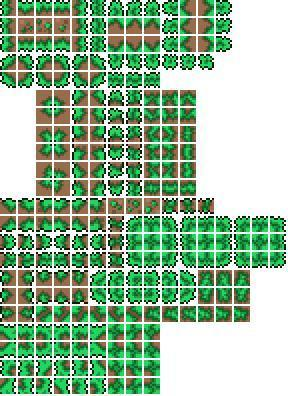dirt: (54, 106, 72, 126), (142, 124, 162, 142), (35, 142, 53, 162), (70, 16, 88, 35), (54, 16, 72, 35), (35, 160, 54, 178), (89, 106, 106, 126), (107, 17, 125, 35), (89, 18, 107, 36), (18, 16, 36, 34), (197, 35, 215, 53), (144, 36, 162, 54), (125, 34, 143, 52), (71, 34, 89, 52), (198, 54, 216, 72), (34, 124, 52, 142), (144, 160, 162, 178), (162, 160, 180, 178), (143, 18, 162, 35), (36, 17, 53, 36), (0, 17, 17, 36), (89, 53, 108, 70), (35, 89, 54, 106), (90, 125, 107, 144), (178, 36, 198, 52), (17, 0, 35, 17), (89, 0, 107, 17), (216, 18, 234, 35), (72, 54, 90, 71), (125, 53, 143, 70), (107, 71, 125, 88), (36, 71, 53, 89), (89, 89, 107, 106), (144, 89, 162, 106), (36, 107, 53, 125), (179, 107, 197, 124), (72, 125, 89, 143), (89, 179, 107, 196), (124, 179, 142, 196), (53, 196, 70, 214), (90, 198, 108, 215), (107, 198, 125, 215), (144, 196, 161, 214), (17, 54, 36, 70), (52, 144, 71, 160), (126, 161, 142, 180), (0, 0, 17, 17), (36, 0, 53, 17), (72, 0, 89, 17), (108, 0, 125, 17), (162, 35, 179, 52), (90, 71, 107, 88), (54, 71, 71, 88), (18, 71, 35, 88), (180, 90, 197, 107), (72, 108, 89, 125), (126, 108, 143, 125), (144, 108, 161, 125), (35, 179, 52, 196), (108, 179, 125, 196), (180, 179, 197, 196), (36, 198, 53, 215), (36, 216, 53, 233), (0, 288, 17, 305), (36, 288, 53, 305), (197, 0, 215, 16), (216, 0, 234, 16), (198, 18, 216, 34), (216, 36, 234, 52), (107, 36, 125, 52), (90, 35, 106, 53), (54, 36, 72, 52), (35, 36, 53, 52), (17, 36, 35, 52), (34, 54, 52, 70), (54, 54, 72, 70), (107, 54, 125, 70), (180, 53, 196, 71), (143, 72, 161, 88), (54, 90, 72, 106), (107, 90, 125, 106), (108, 108, 126, 124), (108, 124, 124, 142), (126, 126, 144, 142), (180, 144, 198, 160), (108, 160, 124, 178), (72, 180, 88, 198), (18, 233, 34, 251), (36, 234, 54, 250), (54, 233, 70, 251), (89, 252, 107, 268), (54, 269, 70, 287), (126, 0, 142, 17), (162, 0, 179, 16), (180, 0, 196, 17), (126, 18, 143, 34), (0, 36, 17, 52), (0, 53, 16, 70), (144, 54, 161, 70), (126, 72, 143, 88), (72, 71, 88, 88), (0, 72, 17, 88), (162, 90, 179, 106), (162, 108, 179, 124), (54, 126, 70, 143), (180, 126, 197, 142), (126, 144, 143, 160), (53, 162, 70, 178), (180, 161, 196, 178), (144, 179, 160, 196), (162, 179, 178, 196), (0, 198, 16, 215), (18, 198, 34, 215), (72, 198, 88, 215), (126, 198, 142, 215), (180, 197, 196, 214), (198, 198, 215, 214), (0, 215, 16, 232), (54, 215, 70, 232), (108, 215, 124, 232), (0, 234, 17, 250), (36, 252, 53, 268), (0, 269, 16, 286), (36, 270, 53, 286), (18, 288, 34, 305), (54, 288, 70, 305), (72, 288, 88, 305), (0, 305, 16, 322), (36, 306, 53, 322), (54, 0, 70, 16), (144, 0, 160, 16), (180, 18, 196, 34), (162, 18, 178, 34), (162, 54, 178, 70), (72, 90, 88, 106), (126, 90, 142, 106), (162, 126, 178, 142), (72, 144, 88, 160), (90, 144, 106, 160), (108, 144, 124, 160), (144, 144, 160, 160), (162, 144, 178, 160), (72, 162, 88, 178), (90, 162, 106, 178), (54, 180, 70, 196), (162, 198, 178, 214), (72, 216, 88, 232), (90, 216, 106, 232), (72, 234, 88, 250), (90, 234, 106, 250), (108, 234, 124, 250), (0, 252, 16, 268), (18, 252, 34, 268), (54, 252, 70, 268), (72, 252, 88, 268), (108, 252, 124, 268), (18, 270, 34, 286), (72, 270, 88, 286), (18, 306, 34, 322), (54, 306, 70, 322), (72, 306, 88, 322), (90, 306, 106, 322), (108, 306, 124, 322), (126, 306, 142, 322), (144, 306, 160, 322), (19, 216, 34, 233)
